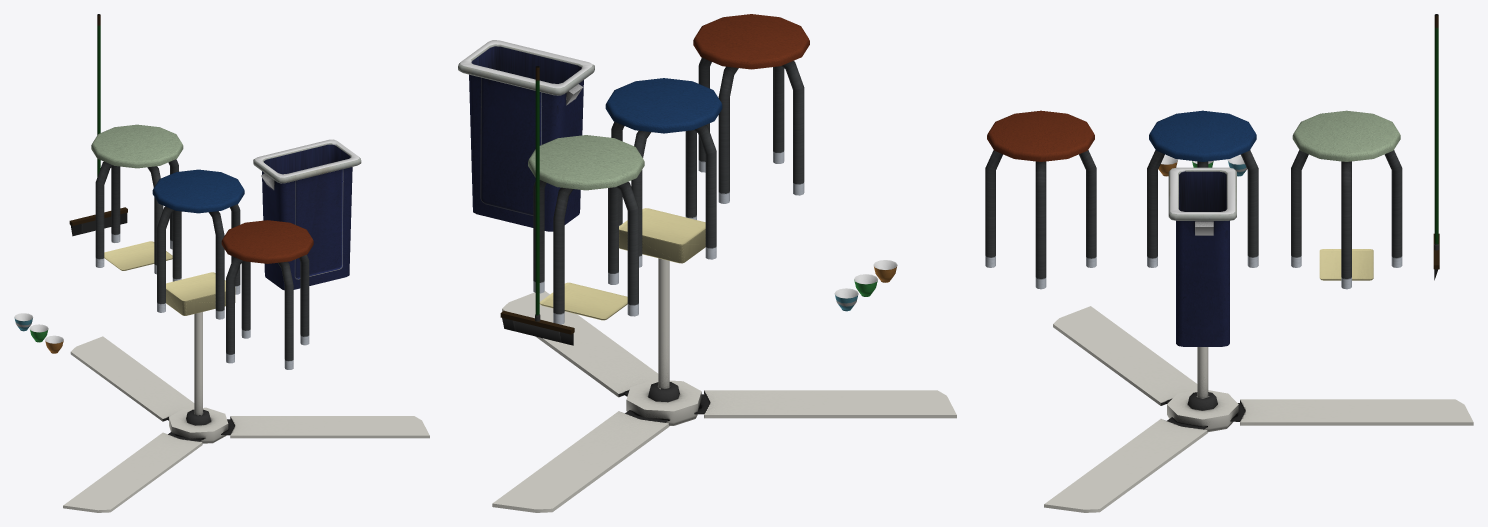
Rendered from prop_sch_canteen_furniture_0.fbx.
3 views of the same model, side by side, from view 1: azimuth 30°, elevation 25°; view 2: azimuth 150°, elevation 25°; view 3: azimuth 270°, elevation 25° (orthographic). The views are drawn at different scales.
Visible parts, largest first — view 1: prop_sch_furniture_cn0_CeilFanCent, prop_sch_furniture_cn0_SampaThang, prop_sch_furniture_cn0_Stool, prop_sch_furniture_cn0_Stool2, prop_sch_furniture_cn0_Stool3, prop_sch_furniture_cn0_PlasticTrayMid_2, prop_sch_furniture_cn0_JuuThoka, prop_sch_furniture_cn0_Top, prop_sch_furniture_cn0_PlasticTray; view 2: prop_sch_furniture_cn0_CeilFanCent, prop_sch_furniture_cn0_SampaThang, prop_sch_furniture_cn0_Stool3, prop_sch_furniture_cn0_Stool, prop_sch_furniture_cn0_Stool2, prop_sch_furniture_cn0_PlasticTrayMid_2, prop_sch_furniture_cn0_JuuThoka, prop_sch_furniture_cn0_Top, prop_sch_furniture_cn0_PlasticTray; view 3: prop_sch_furniture_cn0_CeilFanCent, prop_sch_furniture_cn0_SampaThang, prop_sch_furniture_cn0_Stool, prop_sch_furniture_cn0_Stool3, prop_sch_furniture_cn0_Stool2, prop_sch_furniture_cn0_PlasticTray, prop_sch_furniture_cn0_JuuThoka, prop_sch_furniture_cn0_Top.
Boxes of the visible parts, <box> form: prop_sch_furniture_cn0_CeilFanCent: <box>63,336,429,512</box>; prop_sch_furniture_cn0_SampaThang: <box>253,139,361,290</box>; prop_sch_furniture_cn0_Stool: <box>221,220,313,369</box>; prop_sch_furniture_cn0_Stool2: <box>152,169,244,319</box>; prop_sch_furniture_cn0_Stool3: <box>91,124,183,274</box>; prop_sch_furniture_cn0_PlasticTrayMid_2: <box>166,272,235,315</box>; prop_sch_furniture_cn0_JuuThoka: <box>69,14,127,236</box>; prop_sch_furniture_cn0_Top: <box>186,312,210,425</box>; prop_sch_furniture_cn0_PlasticTray: <box>104,241,172,270</box>; prop_sch_furniture_cn0_CeilFanCent: <box>492,291,956,512</box>; prop_sch_furniture_cn0_SampaThang: <box>458,40,594,231</box>; prop_sch_furniture_cn0_Stool3: <box>528,135,644,324</box>; prop_sch_furniture_cn0_Stool: <box>693,14,809,203</box>; prop_sch_furniture_cn0_Stool2: <box>605,78,722,267</box>; prop_sch_furniture_cn0_PlasticTrayMid_2: <box>619,208,705,263</box>; prop_sch_furniture_cn0_JuuThoka: <box>500,66,574,345</box>; prop_sch_furniture_cn0_Top: <box>648,258,679,402</box>; prop_sch_furniture_cn0_PlasticTray: <box>539,282,627,320</box>; prop_sch_furniture_cn0_CeilFanCent: <box>1044,306,1473,512</box>; prop_sch_furniture_cn0_SampaThang: <box>1168,167,1236,346</box>; prop_sch_furniture_cn0_Stool: <box>985,110,1096,289</box>; prop_sch_furniture_cn0_Stool3: <box>1291,110,1402,289</box>; prop_sch_furniture_cn0_Stool2: <box>1147,110,1258,267</box>; prop_sch_furniture_cn0_PlasticTray: <box>1319,249,1373,280</box>; prop_sch_furniture_cn0_JuuThoka: <box>1433,14,1439,280</box>; prop_sch_furniture_cn0_Top: <box>1187,347,1217,410</box>.
Bounding box in the file's own units: 268 × 249 × 272.
